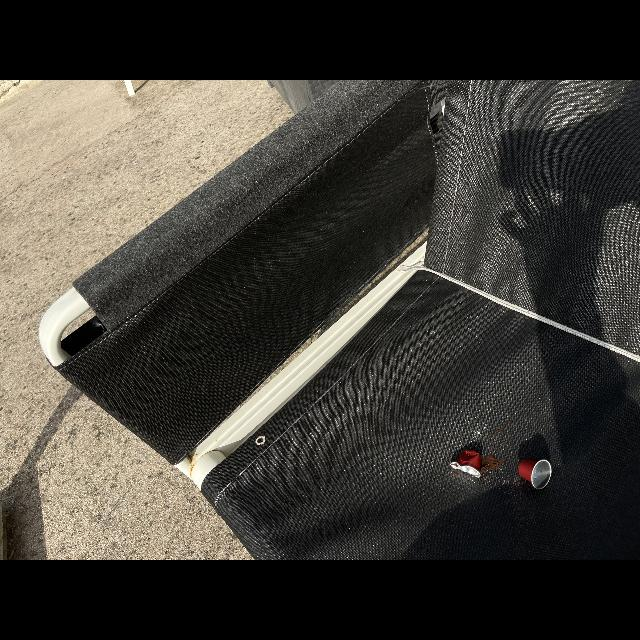damaged_capsule: (445, 433, 503, 481)
intact_capsule: (506, 450, 566, 496)
